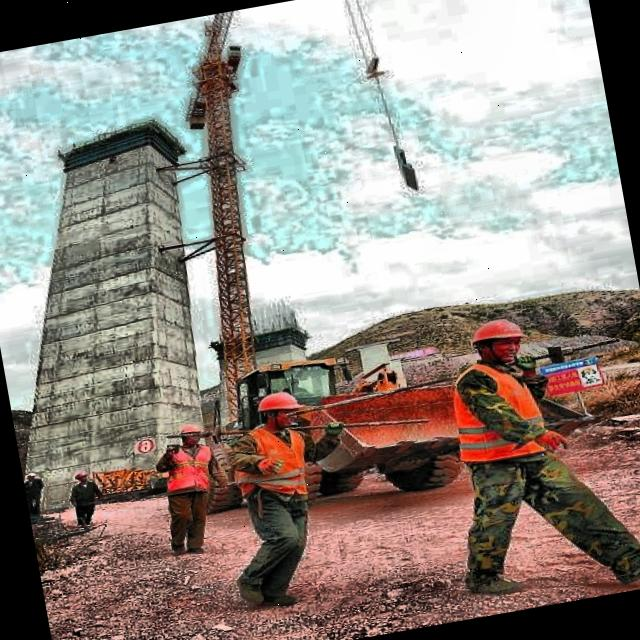helmet: (460, 309, 534, 368), (248, 382, 308, 435), (166, 414, 210, 452)
